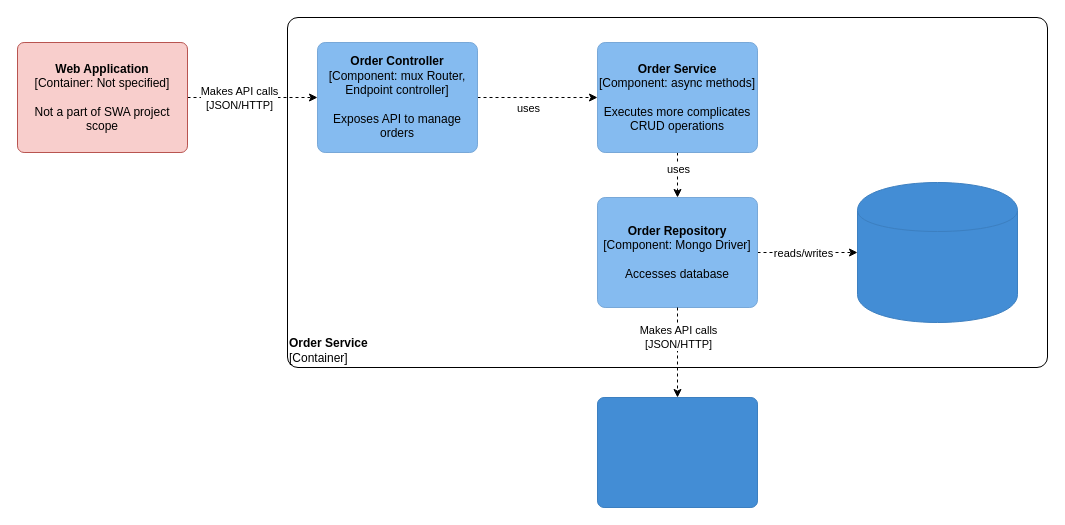
Some shapes in this 1065 by 525 pixel diagram are drawn without their labels. The shapes that lost their labels are listed below. From the top down, each one's centre as x and y in pixels, then its label:
(x=937, y=252): Database [Container: Mongo DB]
(x=677, y=452): Product Service [Container: ]
